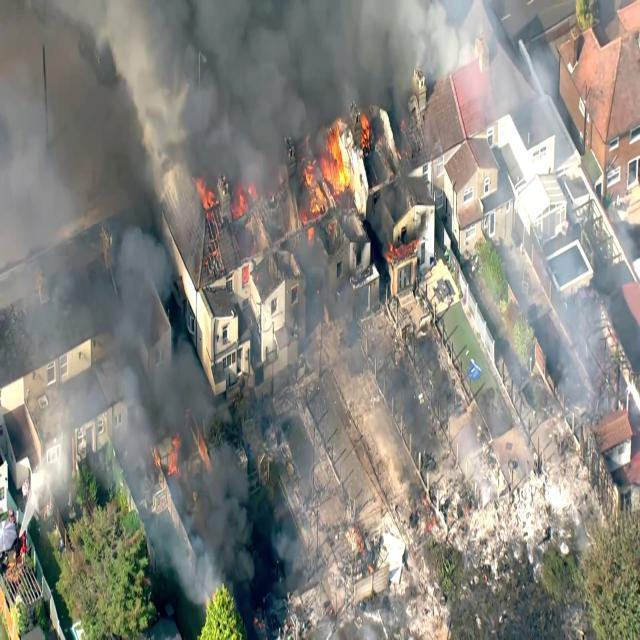Fire: (280, 125, 358, 220)
Smoke: (109, 0, 271, 153), (245, 0, 413, 98)
